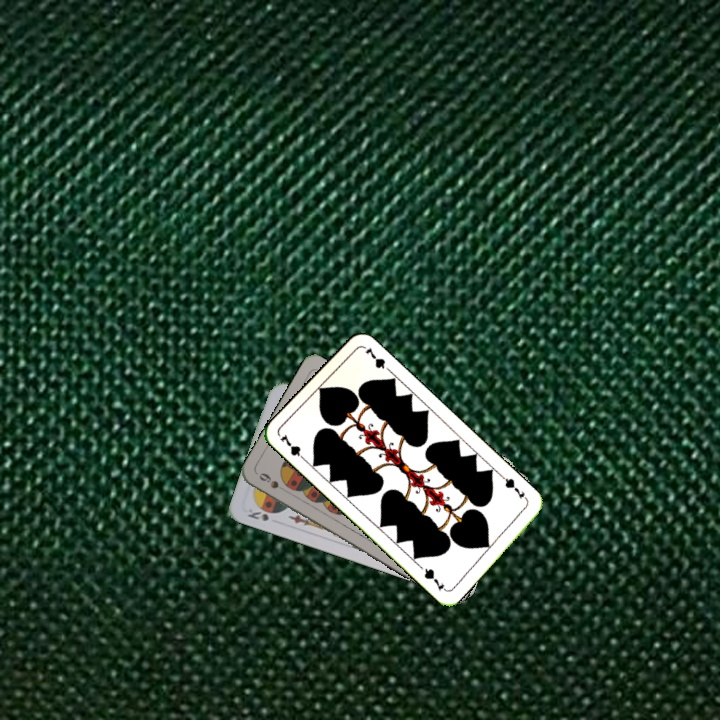G7: (276, 430, 309, 464), (498, 472, 531, 503)
S9: (255, 469, 291, 495)
SK: (243, 507, 271, 524)
